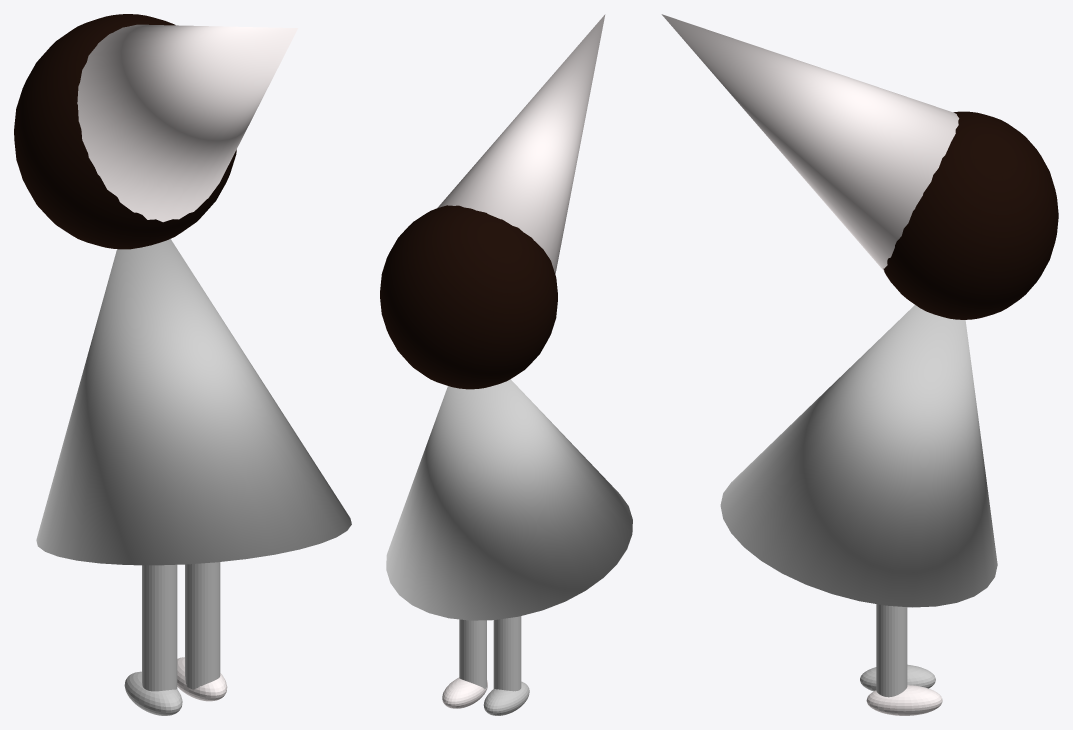
Rendered from princess-textured-2.obj.
The picture shows the model from 3 angles, left to right: view 1: azimuth 30°, elevation 25°; view 2: azimuth 150°, elevation 25°; view 3: azimuth 270°, elevation 25°; orthographic projection. The views are drawn at different scales.
Parts seen in each view (by area): view 1: Cone_Cone.001, Cone.001_Cone.002, Sphere, Cylinder.001, Cylinder, Sphere.002, Sphere.001; view 2: Cone_Cone.001, Sphere, Cone.001_Cone.002, Cylinder.001, Cylinder, Sphere.002, Sphere.001; view 3: Cone_Cone.001, Cone.001_Cone.002, Sphere, Cylinder, Sphere.001, Sphere.002.
Part boxes in pixels (bbox=[...]): Cone_Cone.001: bbox=[36, 239, 351, 565]; Cone.001_Cone.002: bbox=[77, 24, 297, 222]; Sphere: bbox=[14, 14, 236, 249]; Cylinder.001: bbox=[142, 564, 177, 691]; Cylinder: bbox=[185, 562, 220, 689]; Sphere.002: bbox=[124, 671, 182, 715]; Sphere.001: bbox=[177, 657, 227, 701]; Cone_Cone.001: bbox=[386, 379, 632, 620]; Sphere: bbox=[380, 205, 557, 389]; Cone.001_Cone.002: bbox=[437, 14, 605, 273]; Cylinder.001: bbox=[493, 616, 521, 691]; Cylinder: bbox=[459, 619, 486, 688]; Sphere.002: bbox=[483, 681, 529, 715]; Sphere.001: bbox=[442, 677, 487, 708]; Cone_Cone.001: bbox=[720, 305, 997, 607]; Cone.001_Cone.002: bbox=[661, 14, 959, 271]; Sphere: bbox=[883, 111, 1058, 319]; Cylinder: bbox=[876, 604, 907, 697]; Sphere.001: bbox=[866, 685, 942, 715]; Sphere.002: bbox=[860, 664, 935, 691].
Size of the model in its own units: 0.1446 by 0.3952 by 0.2085.
Materials: 3 (2 with a texture image).
